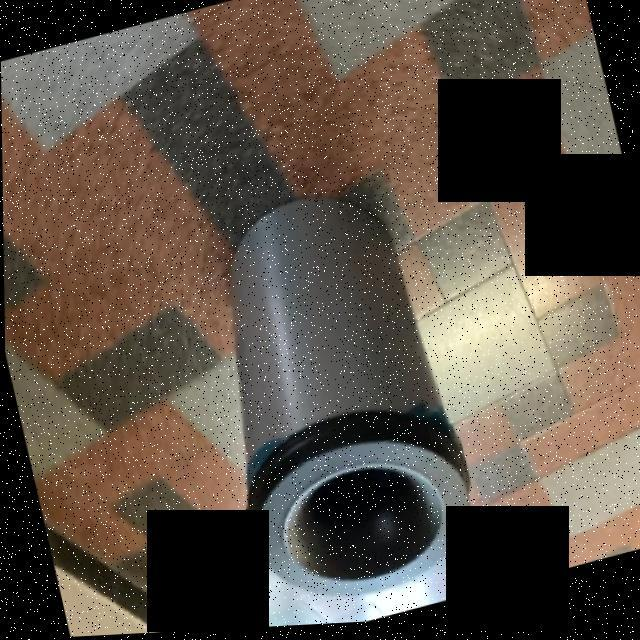bin: (153, 157, 497, 634)
